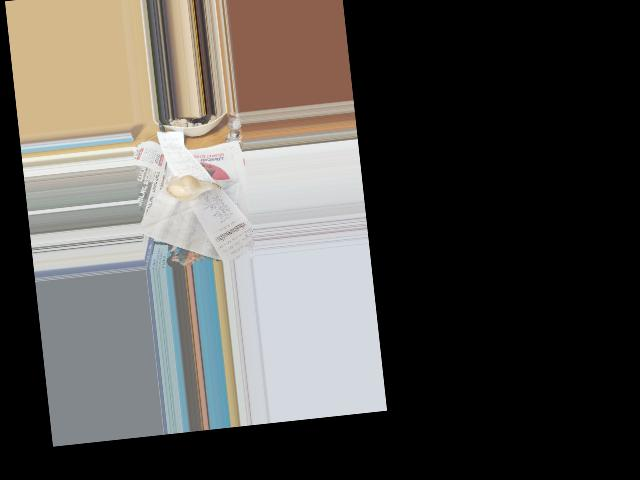onion: (165, 172, 215, 204)
